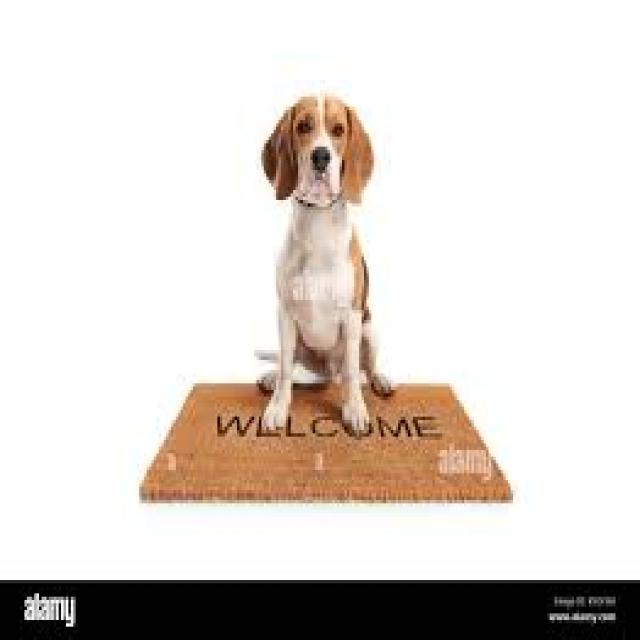Dog: (251, 83, 398, 436)
